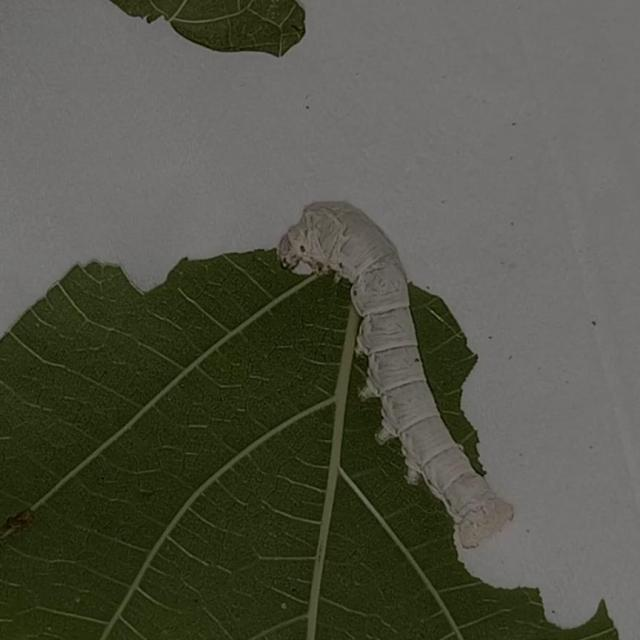Healthy: (264, 178, 542, 571)
